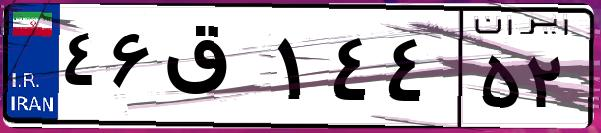1: (270, 28, 330, 110)
2: (525, 38, 570, 115)
4: (385, 28, 445, 110), (330, 28, 385, 110), (57, 26, 110, 100)
5: (475, 38, 525, 113)
6: (110, 28, 158, 98)
ق: (158, 20, 270, 120)
